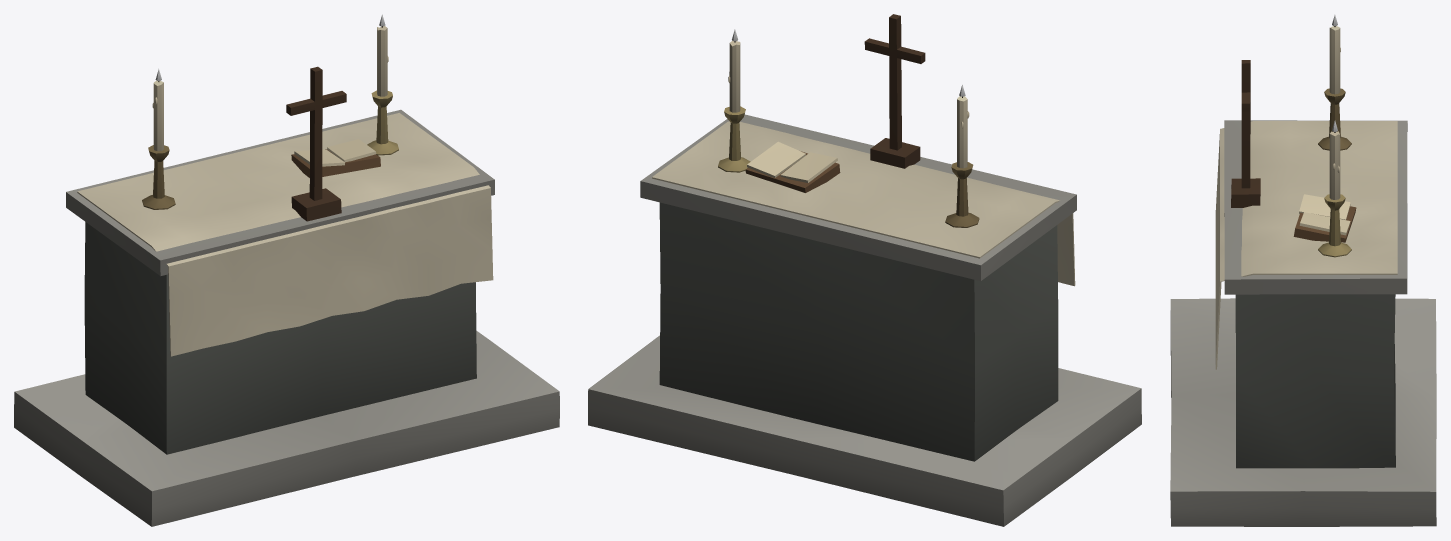
The model's file is ph_int_altar_church.glb.
3 renders of one model, left to right at view 1: azimuth 30°, elevation 25°; view 2: azimuth 150°, elevation 25°; view 3: azimuth 270°, elevation 25°, orthographic. The views are drawn at different scales.
Parts seen in each view (by area): view 1: ph_int_altar_church; view 2: ph_int_altar_church; view 3: ph_int_altar_church.
Part boxes in pixels (x1,y1,x2,y2): ph_int_altar_church: [14, 26, 559, 526]; ph_int_altar_church: [588, 14, 1141, 526]; ph_int_altar_church: [1170, 26, 1436, 526].
Bounding box in the file's own units: 1.91 × 1.69 × 1.11.
